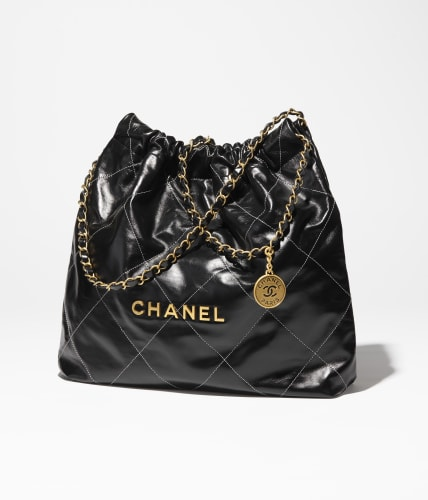channel: (67, 104, 359, 400), (159, 163, 250, 261), (117, 298, 234, 335), (251, 275, 289, 314)
